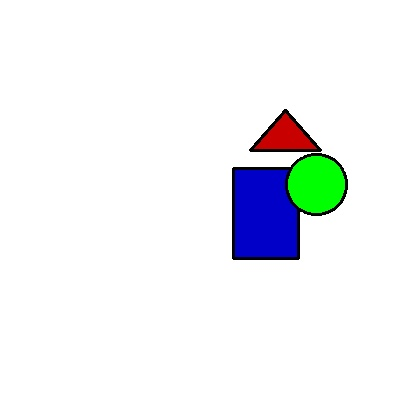circle: (286, 133, 347, 235)
rectangle: (233, 168, 298, 258)
triangle: (250, 110, 320, 150)
